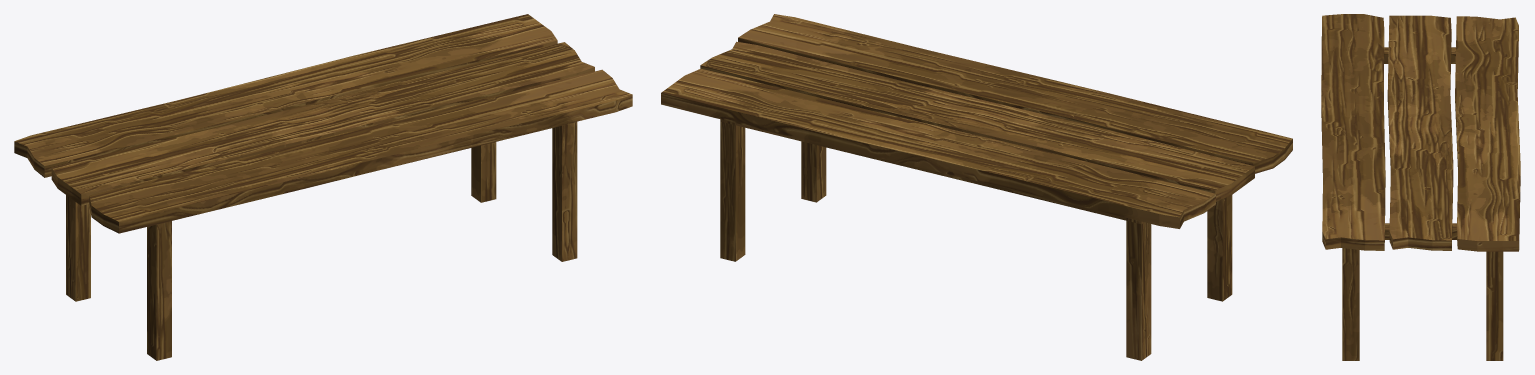
Rendered from TableLowPoly.fbx.
3 views of the same model, side by side, from view 1: azimuth 30°, elevation 25°; view 2: azimuth 150°, elevation 25°; view 3: azimuth 270°, elevation 25° (orthographic). The views are drawn at different scales.
Parts seen in each view (by area): view 1: Cube; view 2: Cube; view 3: Cube.
Part boxes in pixels (x1,y1,x2,y2): Cube: (14, 14, 632, 360); Cube: (661, 14, 1292, 360); Cube: (1321, 14, 1520, 360).
Size of the model in its own units: 3.44 by 0.9995 by 1.28.
Materials: 2 (2 with a texture image).
